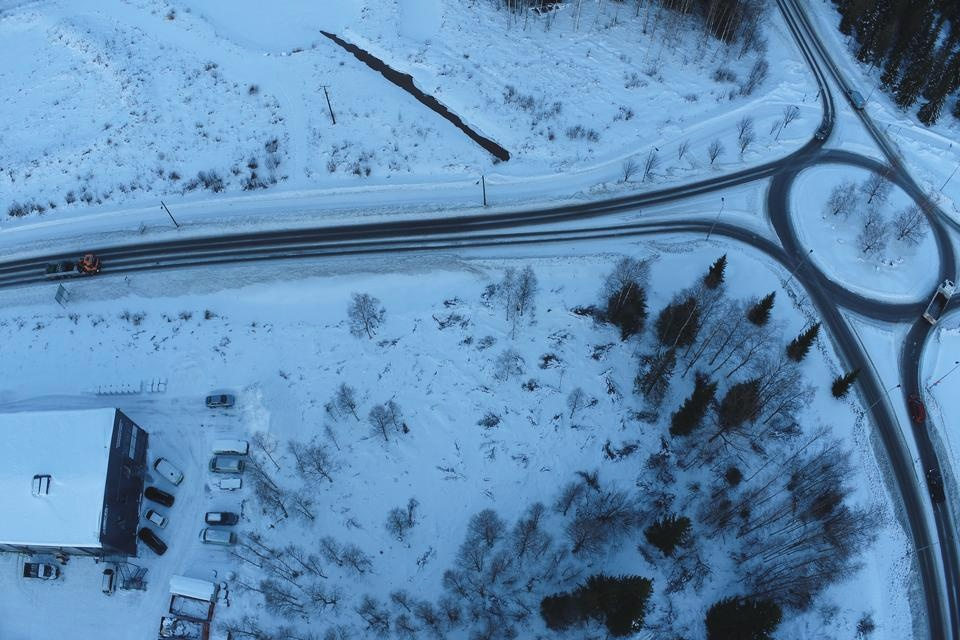roundabout: (752, 111, 960, 350)
